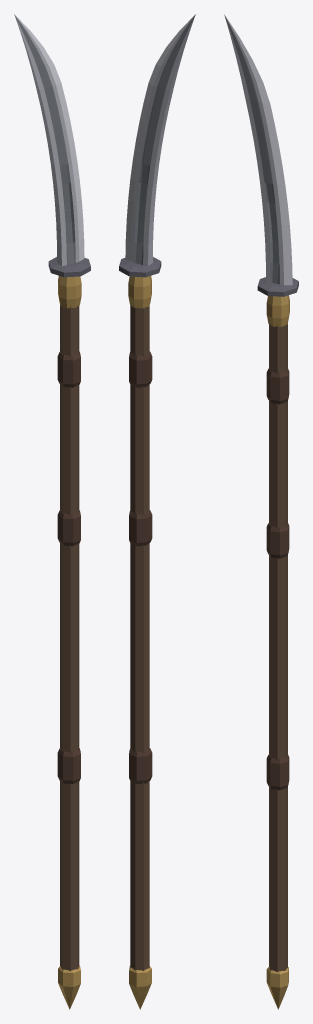
File: naginata.glb
The picture shows the model from 3 angles, left to right: view 1: azimuth 30°, elevation 25°; view 2: azimuth 150°, elevation 25°; view 3: azimuth 330°, elevation 25°; orthographic projection. The views are drawn at different scales.
Visible parts, largest first — view 1: naginata; view 2: naginata; view 3: naginata.
Part boxes in pixels (x1,y1,x2,y2): naginata: (14,14,90,1009); naginata: (119,14,195,1009); naginata: (224,14,298,1009).
Bounding box in the file's own units: 0.197 × 2.55 × 0.1.
